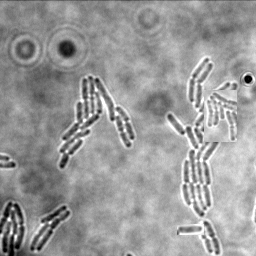Dividing: (204, 219, 222, 255), (199, 223, 215, 253), (177, 224, 204, 235)
Microcolony: (167, 57, 238, 216), (59, 75, 136, 169), (30, 204, 72, 251), (204, 90, 237, 142), (1, 200, 26, 255)
